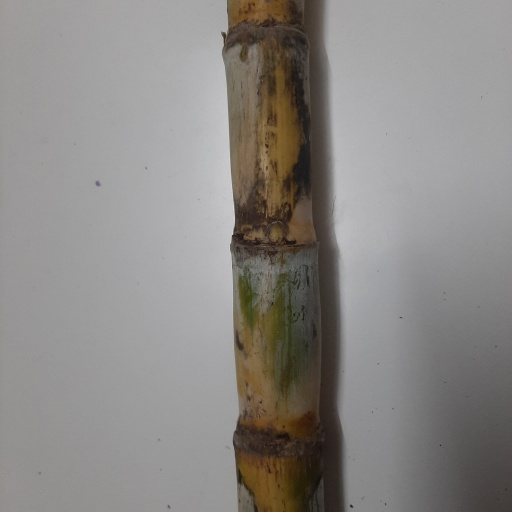Bud: (265, 219, 289, 243)
